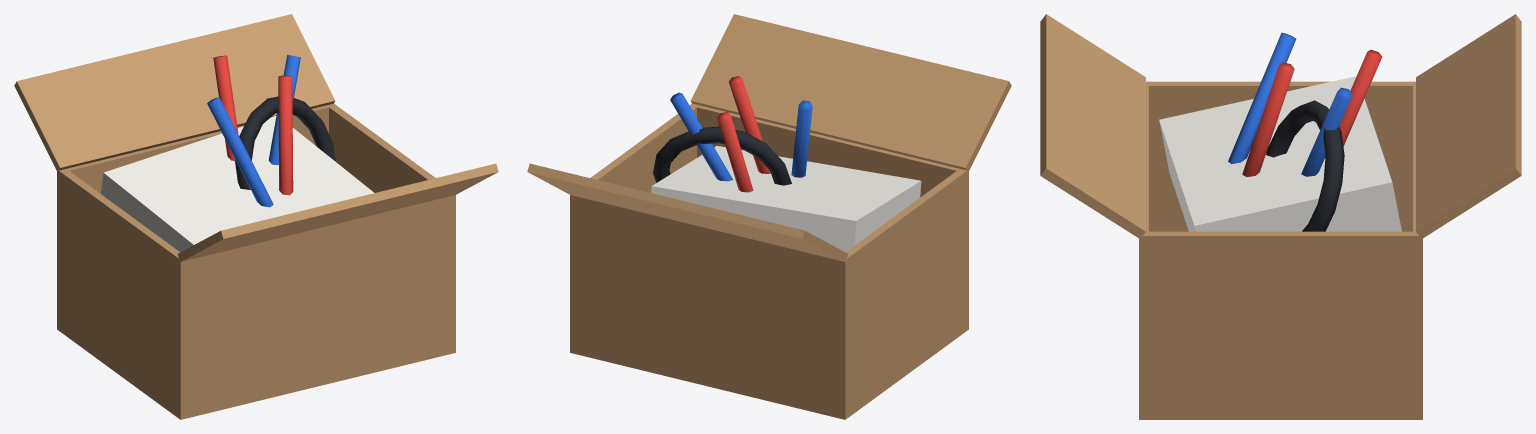
Rendered from ClutterBox.fbx.
3 views of the same model, side by side, from view 1: azimuth 30°, elevation 25°; view 2: azimuth 150°, elevation 25°; view 3: azimuth 270°, elevation 25° (orthographic). The views are drawn at different scales.
Visible parts, largest first — view 1: WallY.004, Flap.002, WallX.004, Papers, Flap.001, WallX.005, WallY.005, Cable, Bottom.002, Junk, Junk.003, Junk.001 (+1 smaller); view 2: WallY.005, Flap.001, WallX.004, Papers, Flap.002, WallY.004, WallX.005, Cable, Bottom.002, Junk.002, Junk.001, Junk.003 (+1 smaller); view 3: WallX.005, Papers, Flap.001, Flap.002, WallX.004, Cable, Bottom.002, WallY.004, WallY.005, Junk.003, Junk, Junk.001 (+1 smaller).
Part boxes in pixels (left/top/right/bottom): WallY.004: left=176, top=195, right=455, bottom=419; Flap.002: left=14, top=14, right=335, bottom=172; WallX.004: left=59, top=170, right=188, bottom=416; Papers: left=101, top=116, right=374, bottom=252; Flap.001: left=177, top=163, right=498, bottom=261; WallX.005: left=326, top=103, right=435, bottom=192; WallY.005: left=57, top=104, right=335, bottom=330; Cable: left=235, top=96, right=335, bottom=189; Bottom.002: left=57, top=322, right=455, bottom=419; Junk: left=278, top=75, right=293, bottom=195; Junk.003: left=207, top=97, right=273, bottom=207; Junk.001: left=213, top=55, right=238, bottom=160; WallY.005: left=570, top=195, right=849, bottom=417; Flap.001: left=690, top=14, right=1011, bottom=172; WallX.004: left=837, top=170, right=966, bottom=419; Papers: left=651, top=146, right=921, bottom=252; Flap.002: left=527, top=163, right=848, bottom=261; WallY.004: left=689, top=105, right=968, bottom=326; WallX.005: left=570, top=103, right=699, bottom=286; Cable: left=653, top=126, right=791, bottom=185; Bottom.002: left=570, top=322, right=968, bottom=419; Junk.002: left=670, top=92, right=732, bottom=181; Junk.001: left=717, top=112, right=753, bottom=192; Junk.003: left=791, top=100, right=812, bottom=177; WallX.005: left=1139, top=231, right=1422, bottom=410; Papers: left=1159, top=76, right=1401, bottom=231; Flap.001: left=1040, top=14, right=1145, bottom=238; Flap.002: left=1416, top=14, right=1521, bottom=238; WallX.004: left=1146, top=81, right=1415, bottom=231; Cable: left=1266, top=100, right=1344, bottom=231; Bottom.002: left=1139, top=410, right=1422, bottom=419; WallY.004: left=1139, top=81, right=1148, bottom=419; WallY.005: left=1413, top=82, right=1422, bottom=419; Junk.003: left=1228, top=32, right=1296, bottom=164; Junk: left=1242, top=62, right=1294, bottom=176; Junk.001: left=1339, top=49, right=1382, bottom=146.
Bounding box in the file's own units: 0.36 × 0.3211 × 0.474.
